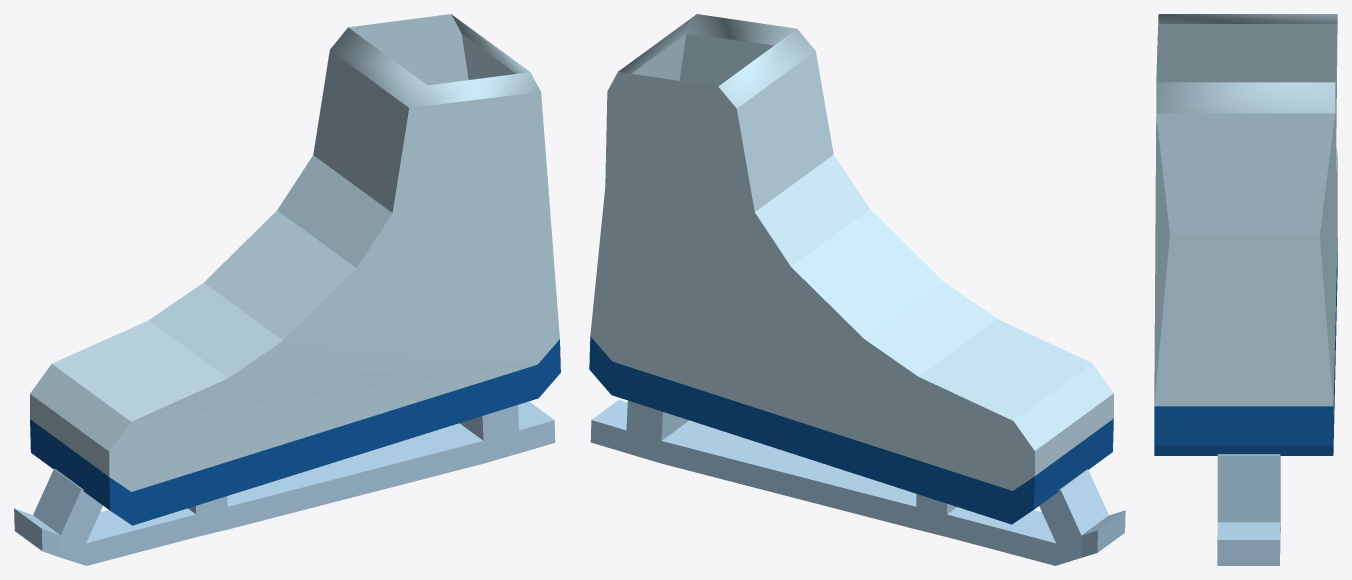
The model's file is ice_skate.fbx.
The picture shows the model from 3 angles, left to right: view 1: azimuth 30°, elevation 25°; view 2: azimuth 150°, elevation 25°; view 3: azimuth 270°, elevation 25°; orthographic projection. The views are drawn at different scales.
Parts seen in each view (by area): view 1: Cube; view 2: Cube; view 3: Cube.
Boxes of the visible parts, <box> form: Cube: <box>14,14,560,565</box>; Cube: <box>589,14,1125,565</box>; Cube: <box>1154,14,1337,565</box>.
Size of the model in its own units: 38.6 by 30.53 by 10.62.
